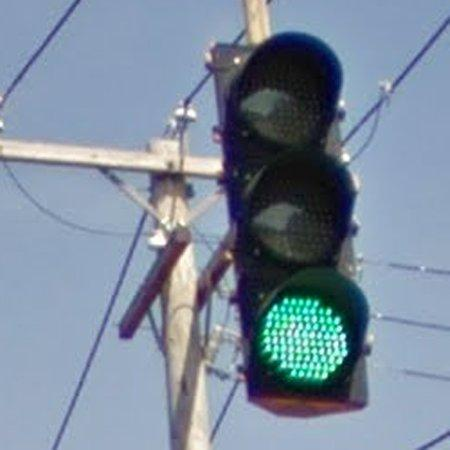traffic lights: (208, 0, 369, 418)
